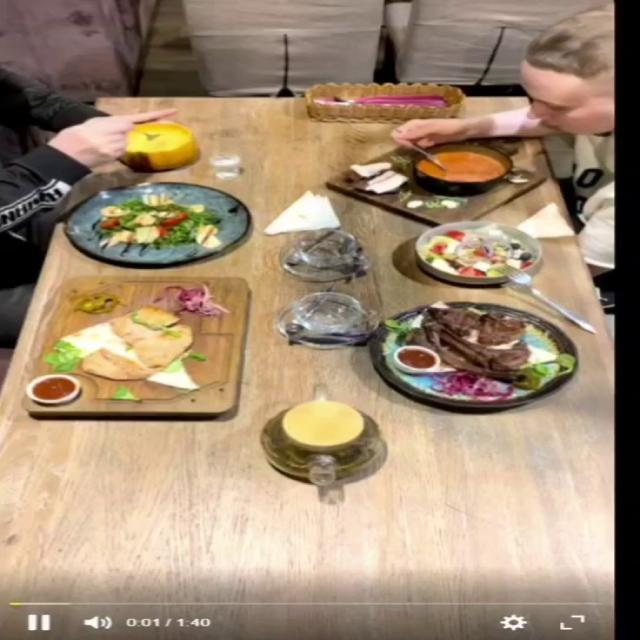meat: (21, 279, 242, 415), (367, 301, 579, 408)
salad: (61, 181, 251, 266), (414, 220, 544, 285)
soup: (322, 140, 547, 226), (121, 121, 199, 170)
tea: (246, 370, 416, 504)
